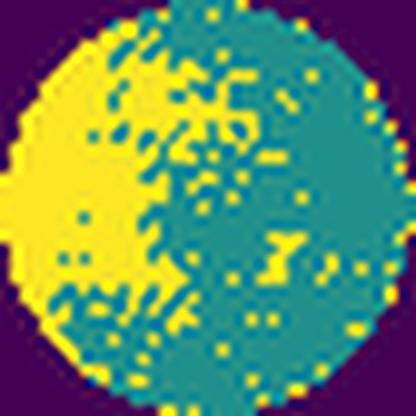Edge-Loc: (0, 12, 261, 380)
